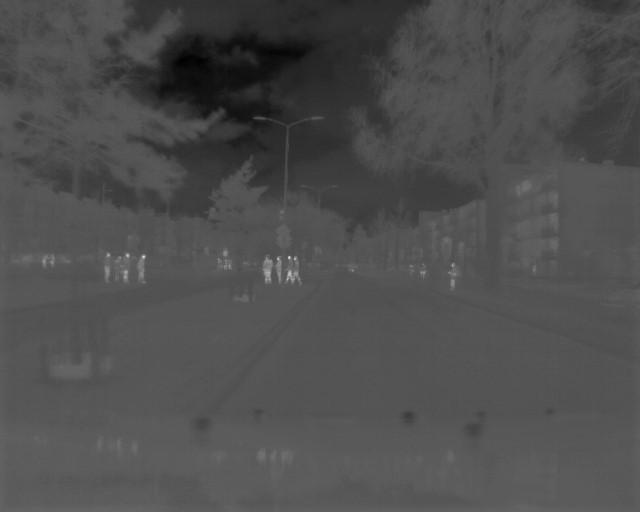person: (444, 260, 464, 291), (260, 251, 272, 285), (100, 250, 111, 285), (136, 252, 146, 285), (121, 252, 131, 285), (274, 253, 284, 285), (294, 254, 302, 287), (287, 254, 292, 288)
